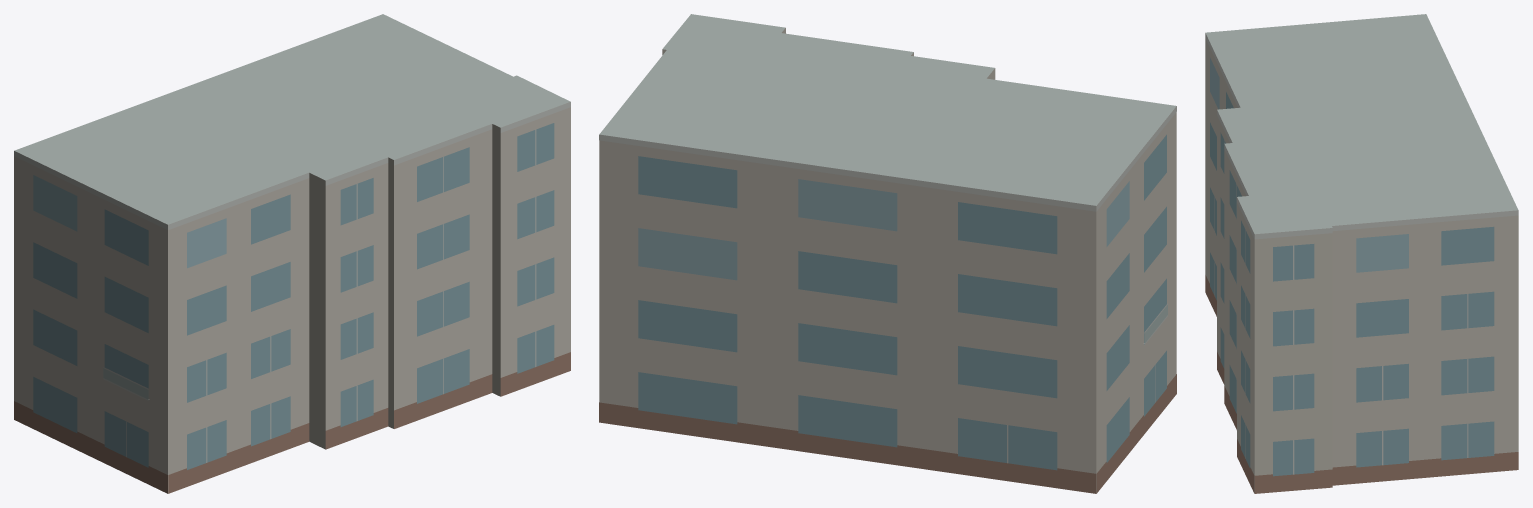
Rendered from survey-upis-33002565.glb.
3 renders of one model, left to right at view 1: azimuth 30°, elevation 25°; view 2: azimuth 150°, elevation 25°; view 3: azimuth 270°, elevation 25°, orthographic. The views are drawn at different scales.
Parts seen in each view (by area): view 1: survey-upis-33002565.tmp; view 2: survey-upis-33002565.tmp; view 3: survey-upis-33002565.tmp.
Part boxes in pixels (x1=…): survey-upis-33002565.tmp: x1=14, y1=14, x2=570, y2=493; survey-upis-33002565.tmp: x1=599, y1=14, x2=1176, y2=493; survey-upis-33002565.tmp: x1=1205, y1=14, x2=1518, y2=493.
Bounding box in the file's own units: 22.02 × 12.1 × 13.24.
